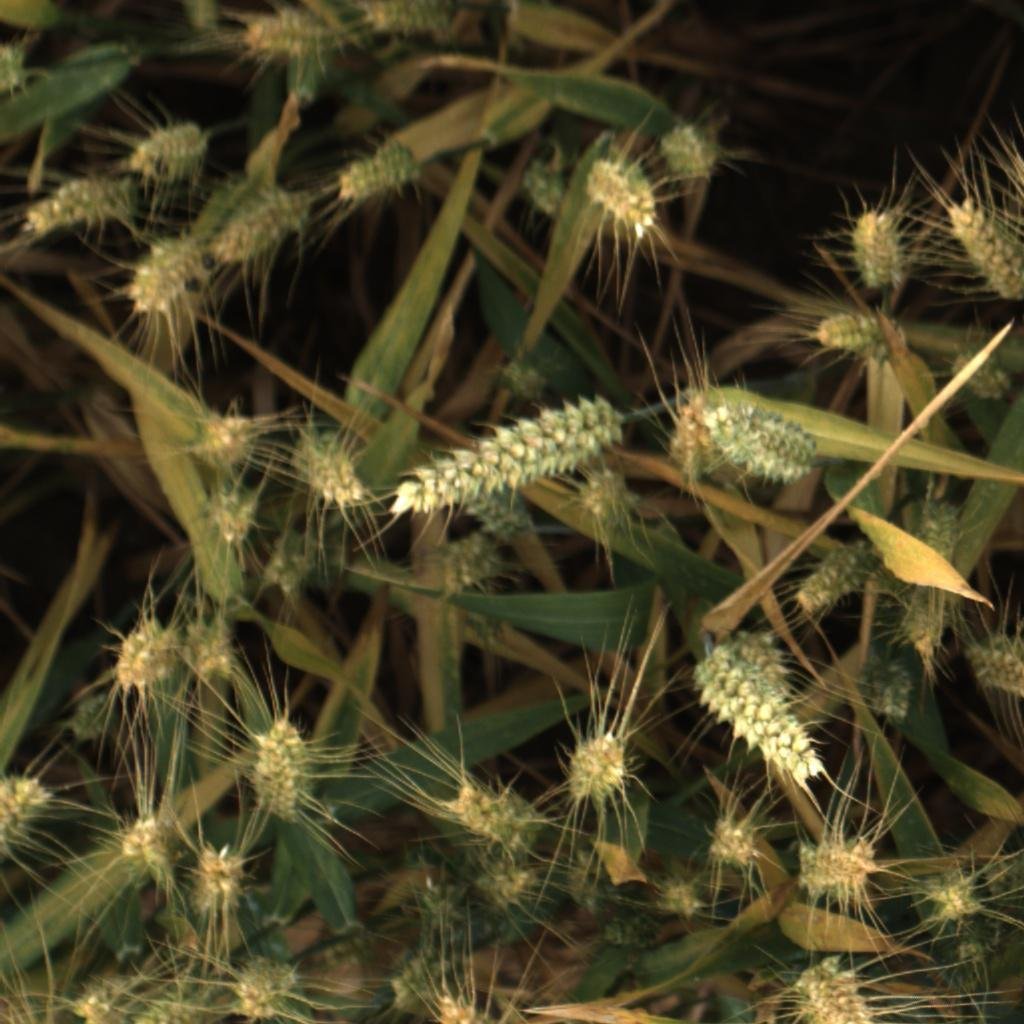0-0: (382, 380, 628, 524), (683, 644, 836, 787), (887, 494, 970, 676), (707, 401, 830, 486), (941, 190, 1024, 302), (583, 144, 668, 245), (206, 186, 303, 271), (248, 715, 315, 827), (448, 453, 530, 544), (444, 775, 538, 851), (405, 870, 482, 961), (23, 175, 128, 237), (124, 241, 203, 322), (728, 619, 803, 700), (794, 834, 882, 902), (110, 616, 180, 699), (380, 952, 463, 1021), (295, 433, 372, 507), (223, 950, 299, 1024), (805, 297, 894, 360), (329, 141, 415, 206), (794, 964, 887, 1024), (567, 726, 635, 807), (658, 395, 722, 480), (112, 815, 180, 894), (572, 463, 645, 536), (797, 543, 873, 613), (189, 840, 255, 919), (0, 767, 54, 863), (127, 120, 204, 187), (846, 205, 901, 290), (861, 657, 920, 734), (239, 11, 324, 64), (920, 865, 990, 927), (597, 901, 664, 962), (940, 344, 1006, 403), (432, 539, 500, 596), (971, 634, 1024, 707), (196, 407, 256, 471), (207, 477, 259, 550), (184, 620, 242, 685), (266, 527, 317, 599), (702, 813, 758, 878), (657, 121, 719, 178), (487, 858, 545, 918), (360, 0, 448, 37), (501, 347, 554, 407), (517, 162, 570, 221), (65, 976, 130, 1024), (127, 991, 216, 1024), (655, 876, 708, 925), (982, 843, 1024, 904), (65, 694, 116, 741), (944, 932, 991, 974), (0, 44, 31, 88)
